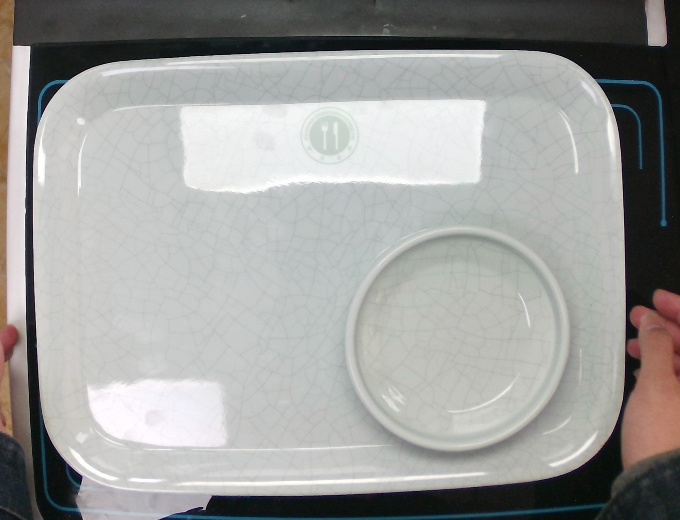JYsf-Xiao_Yuan_Pan: (338, 218, 580, 459)
